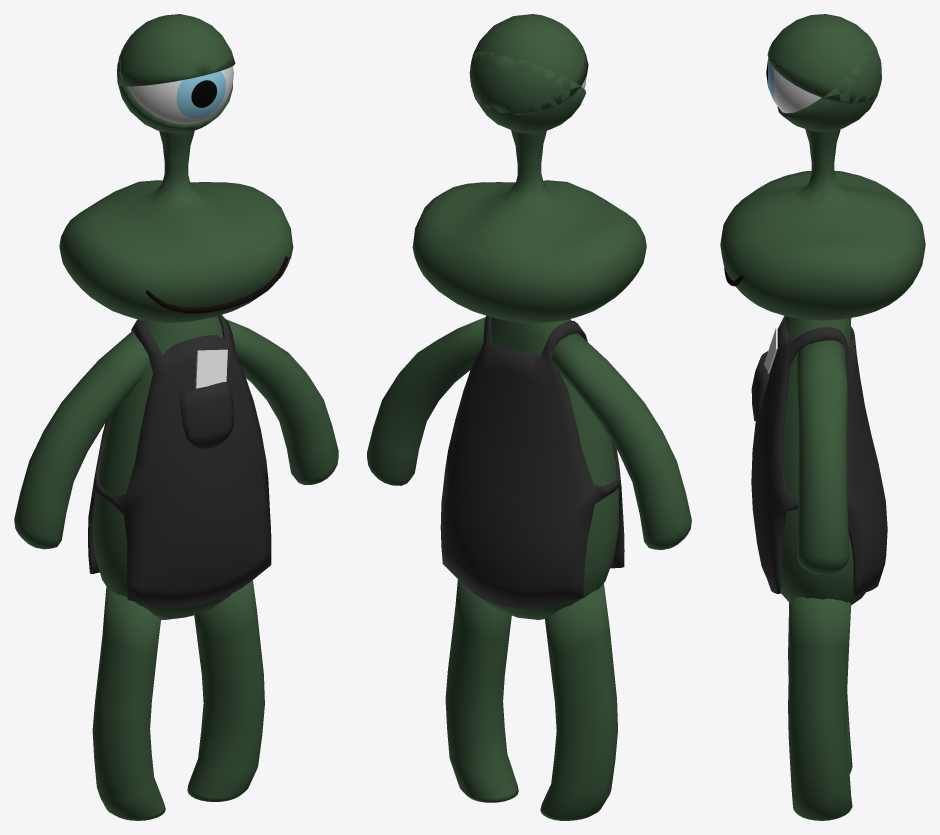
The model's file is Player 1.fbx.
The picture shows the model from 3 angles, left to right: view 1: azimuth 30°, elevation 25°; view 2: azimuth 150°, elevation 25°; view 3: azimuth 270°, elevation 25°; orthographic projection.
Parts seen in each view (by area): view 1: Clothes, Head.001, Cylinder, Arm, Body.001, Eyelid top, Eye, Pocket, Eyelid bottom, Cube, Mouth; view 2: Clothes, Head.001, Cylinder, Arm, Body.001, Eyelid top, Eyelid bottom; view 3: Head.001, Clothes, Cylinder, Arm, Eyelid top, Body.001, Eyelid bottom, Eye, Pocket.
Boxes of the visible parts, x1,y1,x2,y2 form: Clothes: (88, 315, 271, 607); Head.001: (59, 130, 293, 323); Cylinder: (92, 580, 264, 820); Arm: (14, 319, 338, 549); Body.001: (92, 316, 231, 619); Eyelid top: (116, 14, 235, 86); Eye: (127, 66, 233, 124); Pocket: (179, 381, 234, 448); Eyelid bottom: (117, 34, 232, 133); Cube: (195, 349, 227, 388); Mouth: (145, 256, 288, 313); Clothes: (440, 316, 624, 608); Head.001: (412, 130, 646, 323); Cylinder: (445, 579, 617, 820); Arm: (367, 317, 691, 549); Body.001: (482, 317, 618, 619); Eyelid top: (469, 14, 588, 114); Eyelid bottom: (470, 52, 585, 133); Head.001: (720, 129, 925, 320); Clothes: (751, 316, 887, 596); Cylinder: (788, 596, 852, 820); Arm: (796, 340, 849, 574); Eyelid top: (767, 14, 881, 103); Body.001: (780, 316, 865, 604); Eyelid bottom: (777, 33, 881, 131); Eye: (766, 58, 821, 113); Pocket: (751, 351, 769, 420).
Bounding box in the file's own units: 84.59 × 199 × 47.94.
